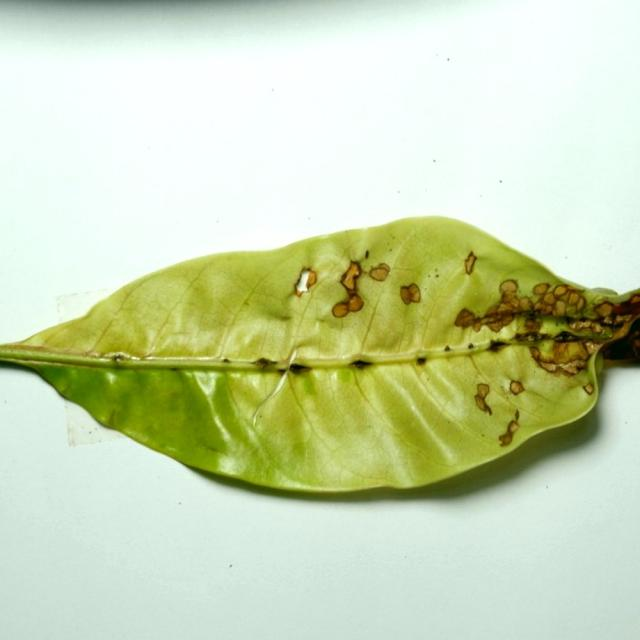Anthracnose: (457, 275, 626, 443), (461, 279, 531, 333), (330, 258, 389, 321), (475, 379, 520, 444), (533, 283, 587, 319), (608, 292, 640, 320), (294, 268, 316, 296), (454, 308, 475, 329), (369, 263, 390, 281), (102, 351, 133, 362), (464, 251, 477, 275), (499, 279, 518, 295), (288, 363, 312, 374), (509, 380, 524, 395), (533, 282, 549, 296), (254, 358, 274, 368), (426, 269, 441, 281), (365, 250, 370, 259), (222, 358, 231, 363)
Mango: (0, 218, 639, 502)
